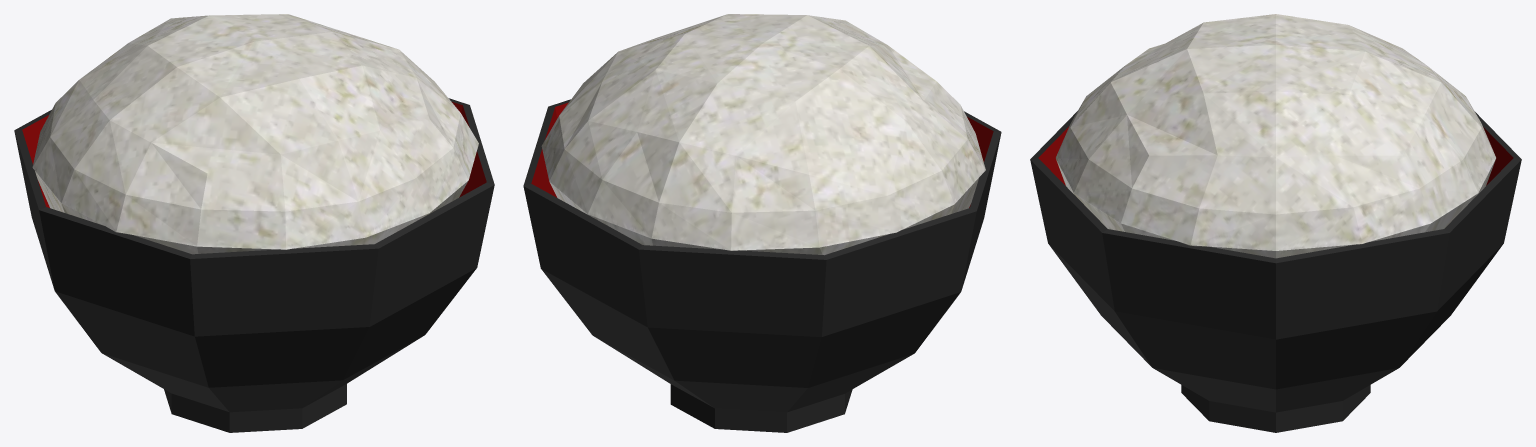
Rendered from rice.glb.
The picture shows the model from 3 angles, left to right: view 1: azimuth 30°, elevation 25°; view 2: azimuth 150°, elevation 25°; view 3: azimuth 270°, elevation 25°; orthographic projection.
Visible parts, largest first — view 1: Node; view 2: Node; view 3: Node.
Part boxes in pixels (<box>): Node: <box>14,14,494,432</box>; Node: <box>523,14,1001,432</box>; Node: <box>1030,14,1521,432</box>.
Bounding box in the file's own units: 2.07 × 1.62 × 2.07.
Materials: 3 (1 with a texture image).
